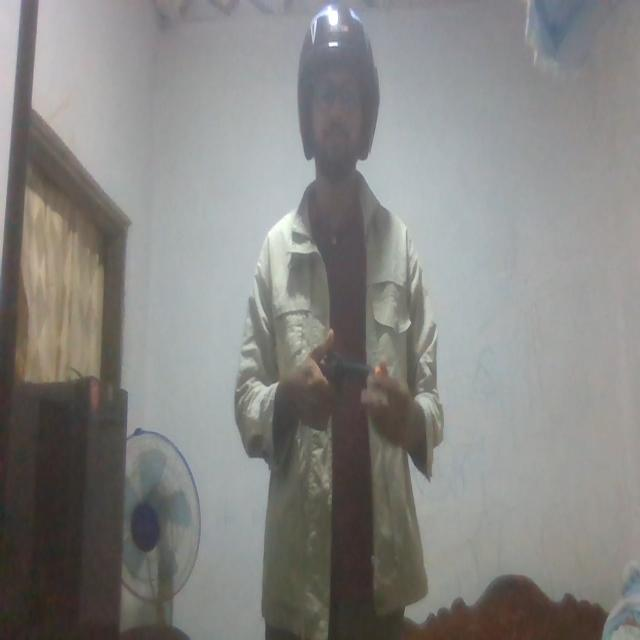Gun_Holder: (310, 332, 398, 422)
Helmet_Wearer: (290, 4, 388, 190)
Jacket_Wearer: (234, 179, 456, 607)
Person: (225, 0, 453, 640)
